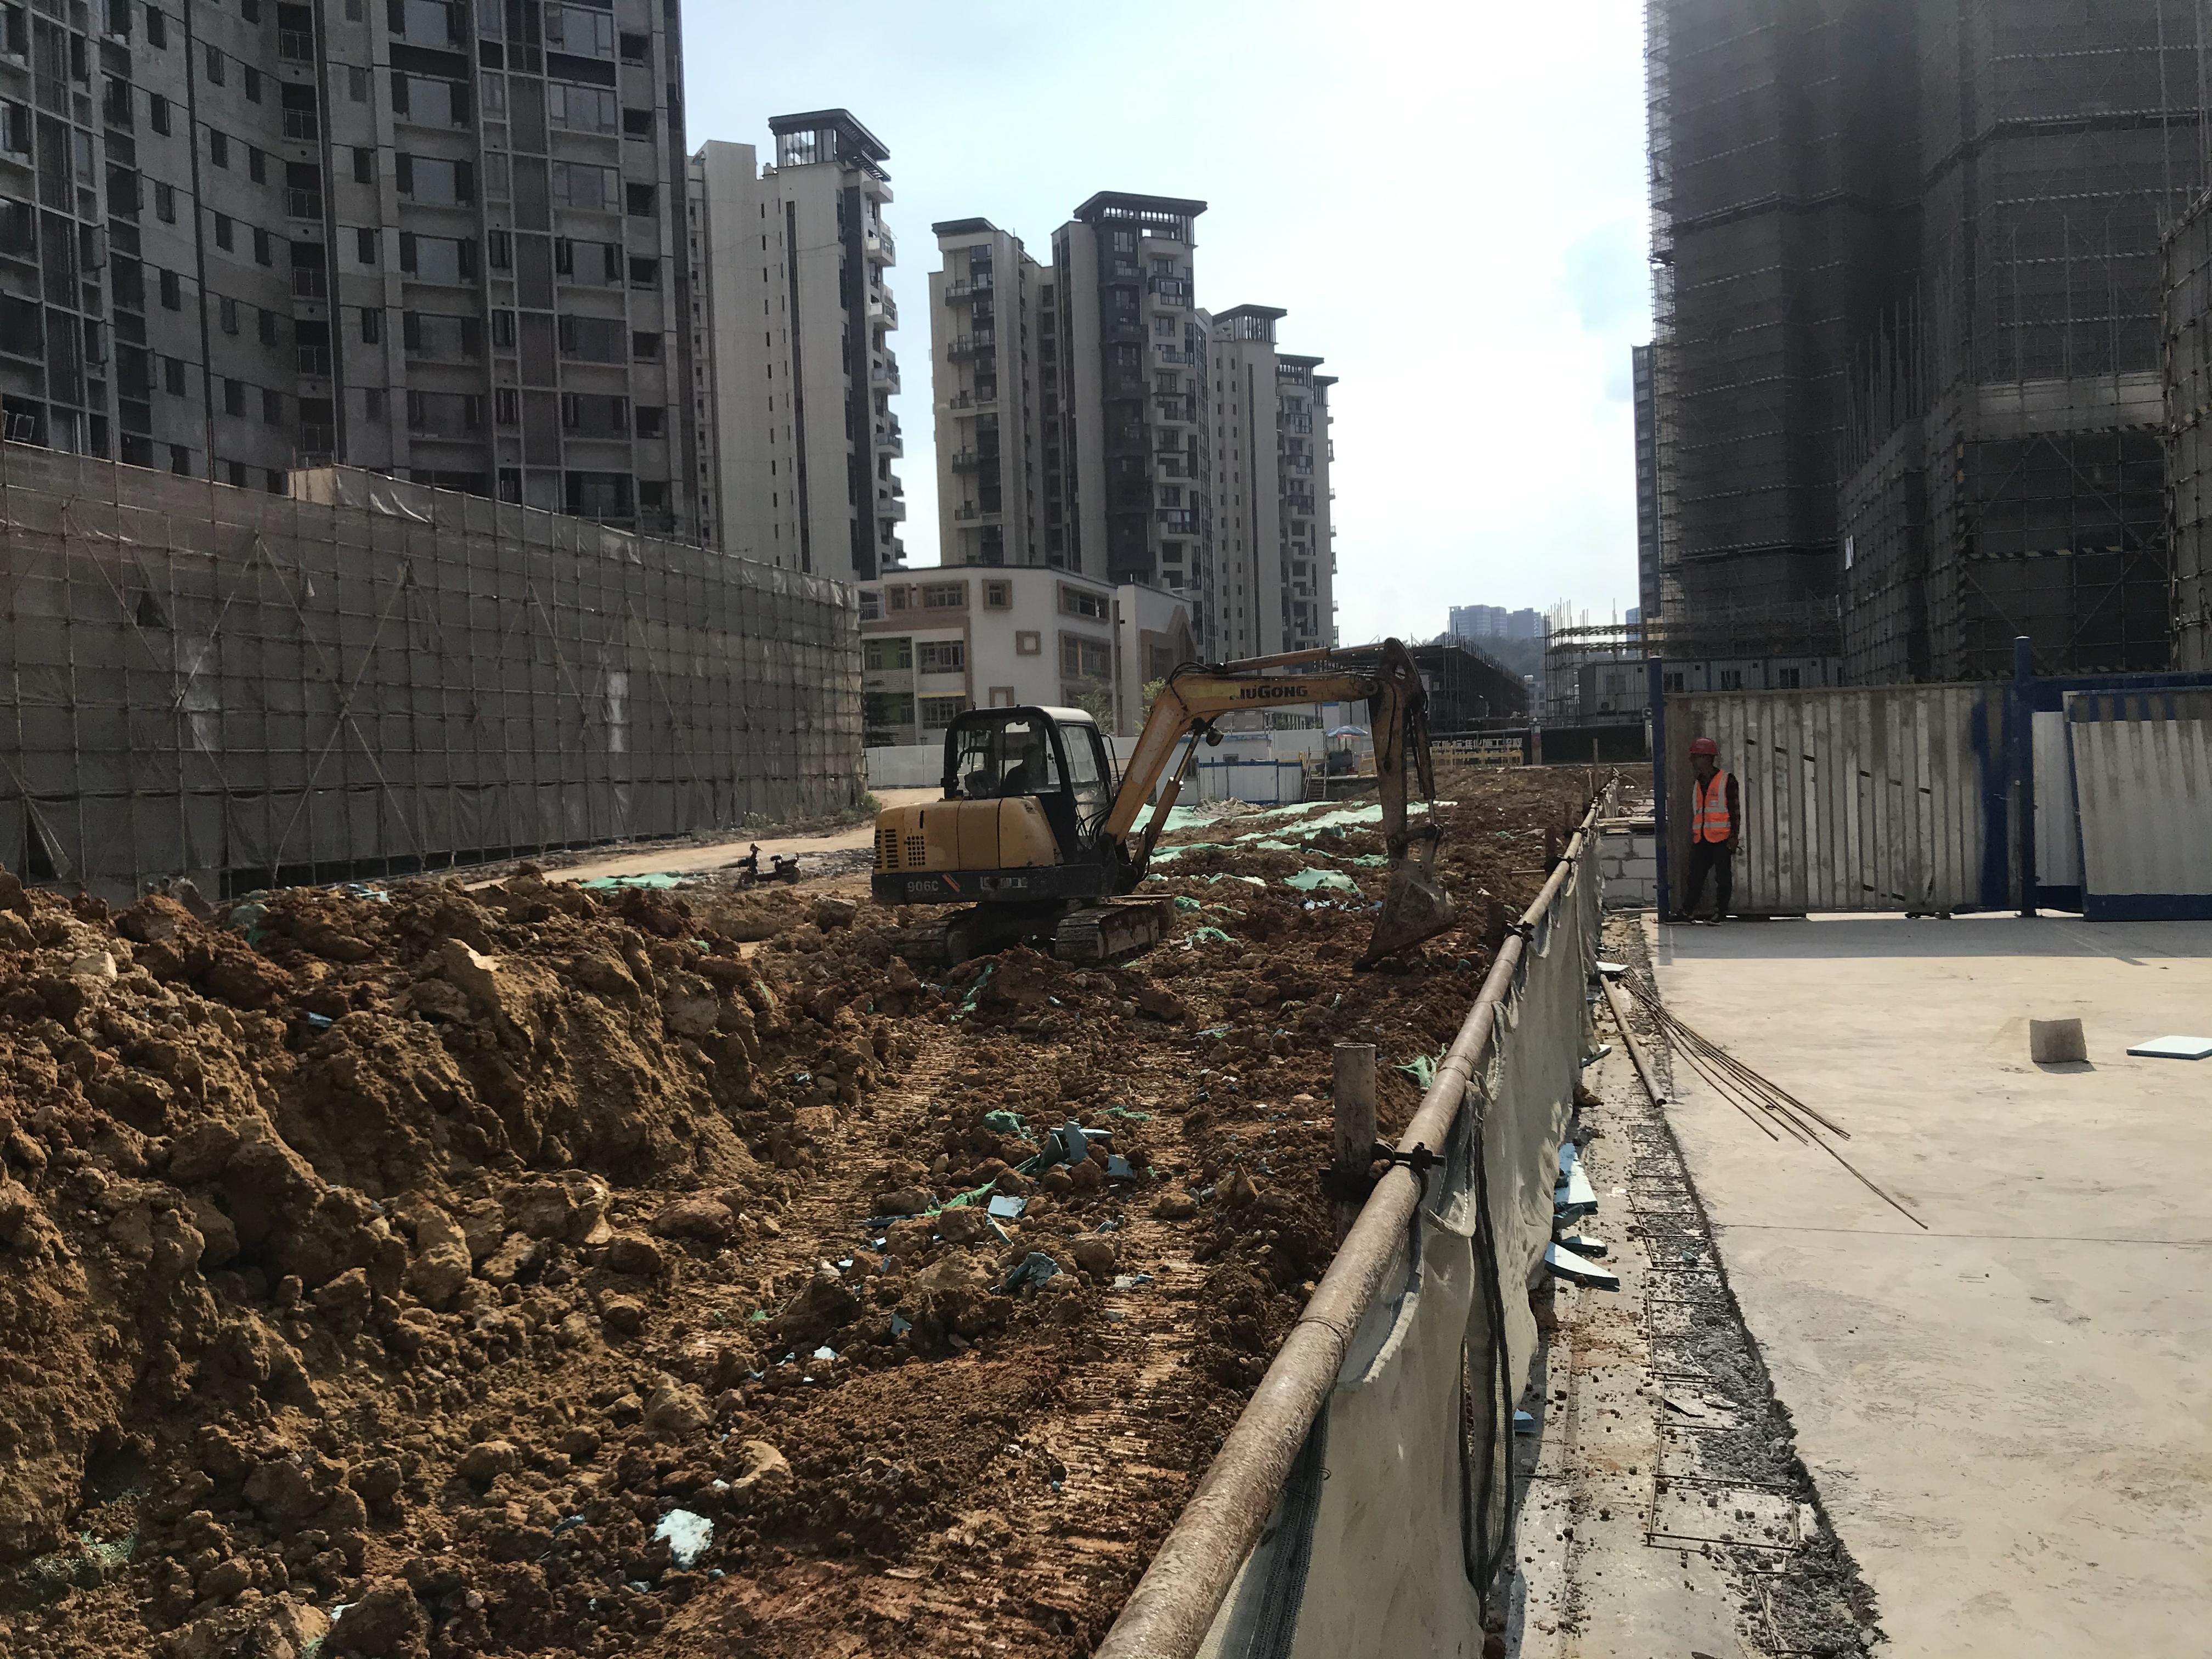helmet: (1691, 738, 1717, 755)
person: (1664, 736, 1741, 927)
vest: (1690, 771, 1730, 843)
